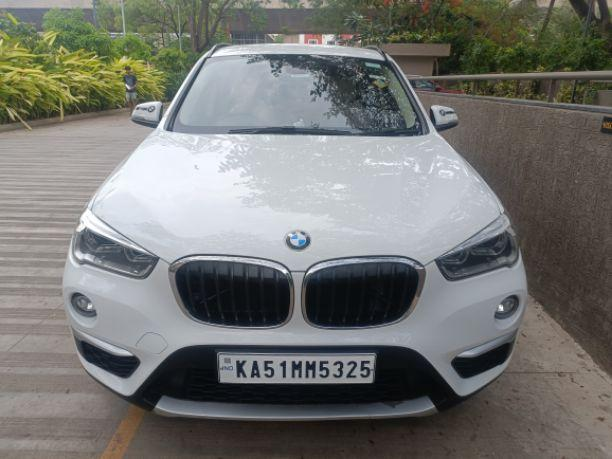license_plate: (215, 350, 376, 385)
